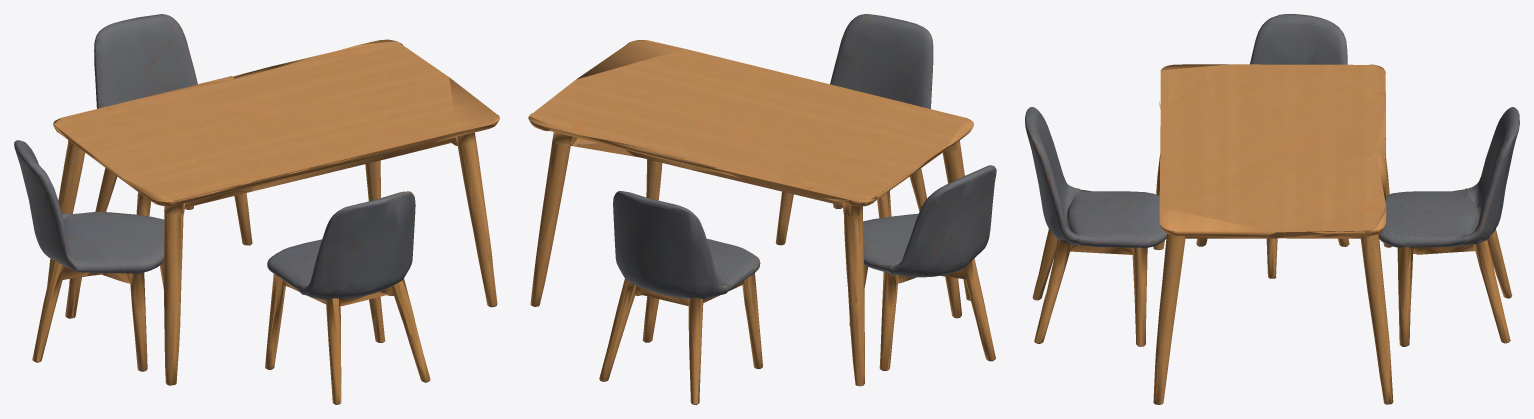
The model's file is dining-set.glb.
The picture shows the model from 3 angles, left to right: view 1: azimuth 30°, elevation 25°; view 2: azimuth 150°, elevation 25°; view 3: azimuth 270°, elevation 25°; orthographic projection.
Visible parts, largest first — view 1: output_unwrapped; view 2: output_unwrapped; view 3: output_unwrapped.
Part boxes in pixels (left/top/right/bottom): output_unwrapped: left=14, top=14, right=499, bottom=404; output_unwrapped: left=528, top=14, right=996, bottom=404; output_unwrapped: left=1025, top=14, right=1519, bottom=404.
Size of the model in its own units: 1.88 by 0.8499 by 1.94.
Materials: 1 (1 with a texture image).
